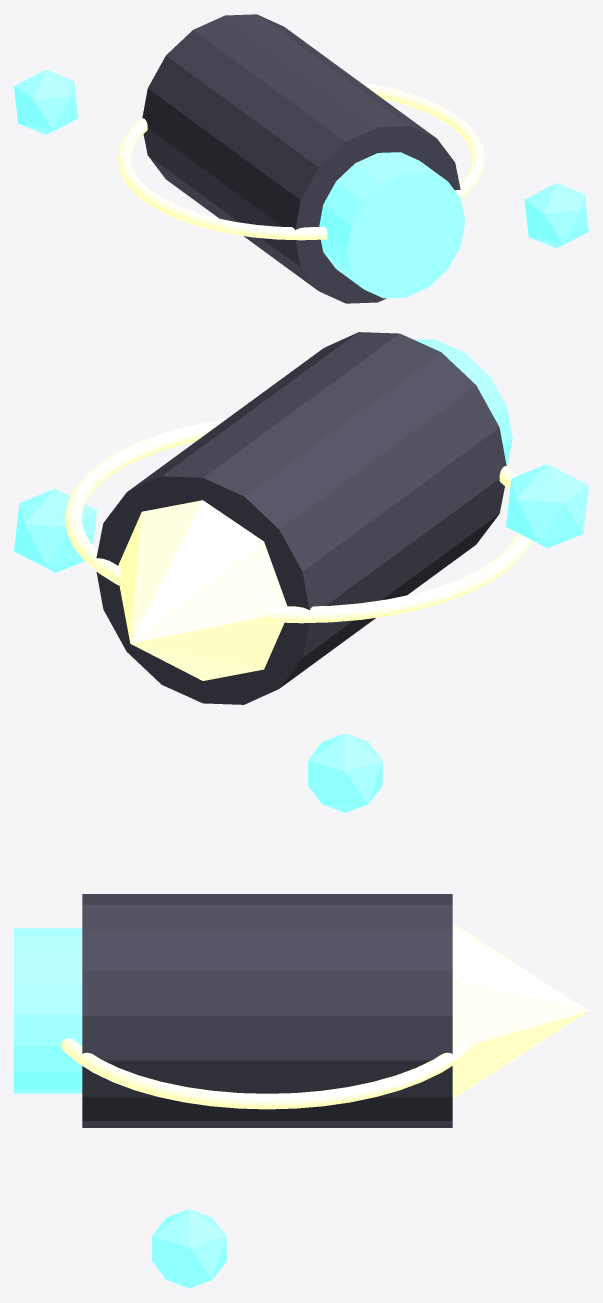
File: hermes_fleet.glb
3 renders of one model, top to bottom at view 1: azimuth 30°, elevation 25°; view 2: azimuth 150°, elevation 25°; view 3: azimuth 270°, elevation 25°, orthographic. The views are drawn at different scales.
Visible parts, largest first — view 1: SM_Hermes_Carrier, SM_Hermes_EngineBay, SM_Hermes_DockingGimbal, SM_Hermes_Drone_01, SM_Hermes_Drone_02; view 2: SM_Hermes_Carrier, SM_Hermes_SensoryArray, SM_Hermes_DockingGimbal, SM_Hermes_Drone_01, SM_Hermes_Drone_02, SM_Hermes_EngineBay; view 3: SM_Hermes_Carrier, SM_Hermes_SensoryArray, SM_Hermes_EngineBay, SM_Hermes_DockingGimbal, SM_Hermes_Drone_02, SM_Hermes_Drone_01.
Boxes of the visible parts, <box> form: SM_Hermes_Carrier: <box>142,14,460,303</box>; SM_Hermes_EngineBay: <box>319,152,465,298</box>; SM_Hermes_DockingGimbal: <box>118,82,484,240</box>; SM_Hermes_Drone_01: <box>14,69,78,134</box>; SM_Hermes_Drone_02: <box>524,183,588,248</box>; SM_Hermes_Carrier: <box>96,332,506,704</box>; SM_Hermes_SensoryArray: <box>118,500,287,680</box>; SM_Hermes_DockingGimbal: <box>65,419,531,623</box>; SM_Hermes_Drone_01: <box>506,464,588,548</box>; SM_Hermes_Drone_02: <box>14,488,96,572</box>; SM_Hermes_EngineBay: <box>412,339,512,465</box>; SM_Hermes_Carrier: <box>82,894,452,1127</box>; SM_Hermes_SensoryArray: <box>452,923,588,1098</box>; SM_Hermes_EngineBay: <box>14,928,82,1093</box>; SM_Hermes_DockingGimbal: <box>61,1038,474,1109</box>; SM_Hermes_Drone_02: <box>152,1209,226,1288</box>; SM_Hermes_Drone_01: <box>308,733,382,812</box>.
Size of the model in its own units: 7.2 by 3.3 by 5.9.
